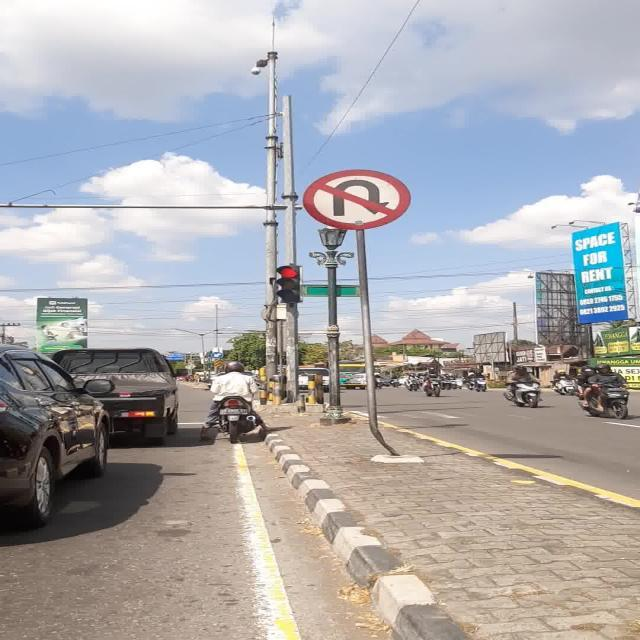Dilarang Putar Balik: (302, 170, 410, 230)
